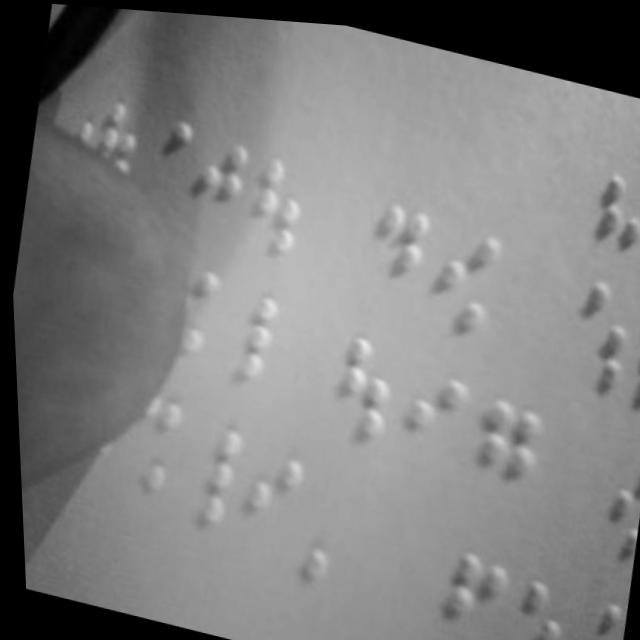braiile: (454, 379, 540, 511), (383, 352, 472, 473), (555, 266, 640, 392), (358, 185, 437, 313), (166, 406, 245, 534), (426, 212, 506, 334), (324, 325, 401, 449), (182, 125, 258, 250), (227, 438, 307, 556), (416, 532, 503, 640), (236, 146, 313, 258), (209, 280, 280, 378), (479, 564, 564, 640), (551, 579, 617, 640)
